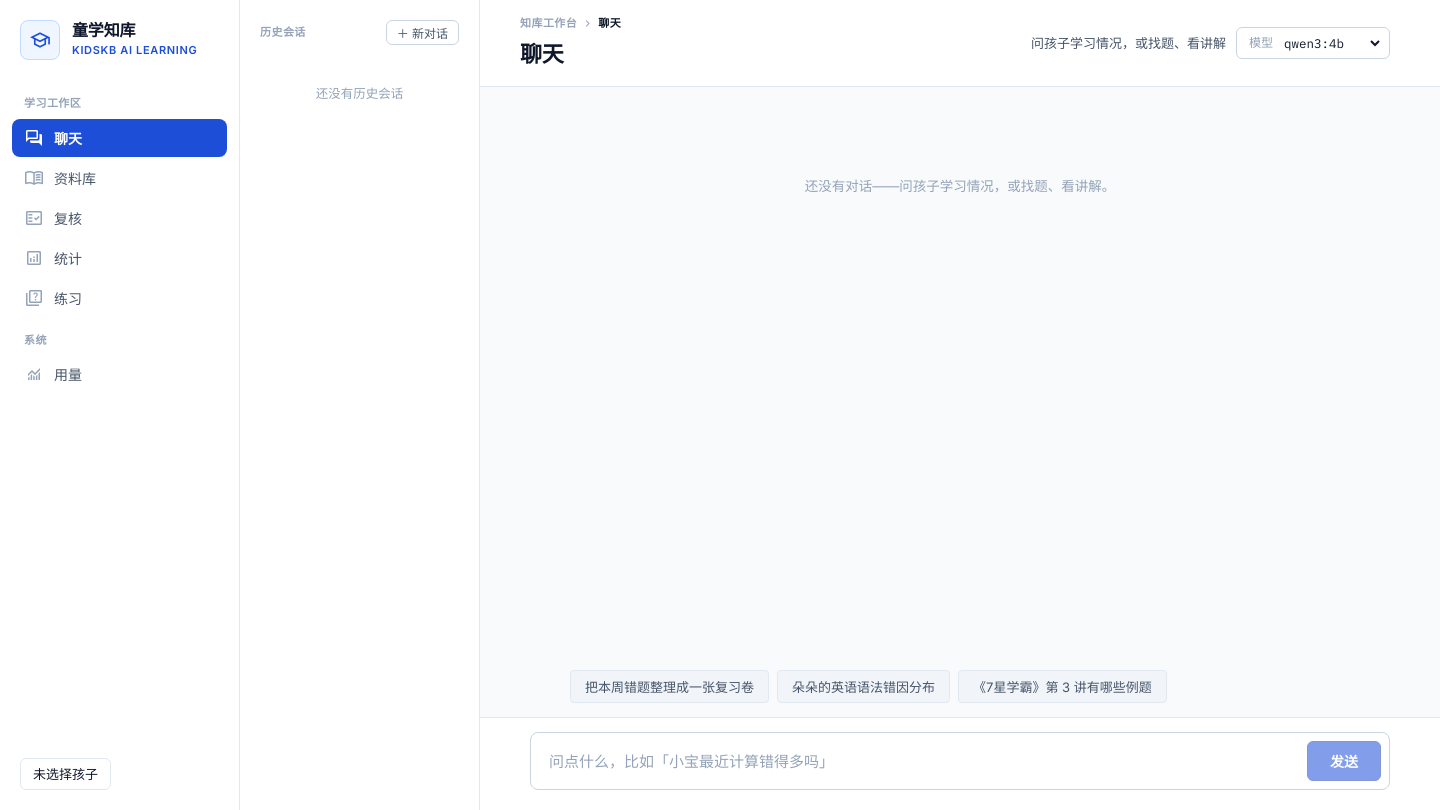
Scenario: App 集成（会话侧栏 + 模型下拉 + 聊天流） › 完整链路：发消息 → session 事件 → 流式回复 → 侧栏出现新会话
Check: the dropdown named "选择模型" shows "qwen3:4b", box top-left (1280, 34), bottom-right (1383, 52)
Type "小宝最近计算错得多吗" into the field named "输入问题" at (923, 761), box top-left (549, 741), bottom-right (1297, 781)
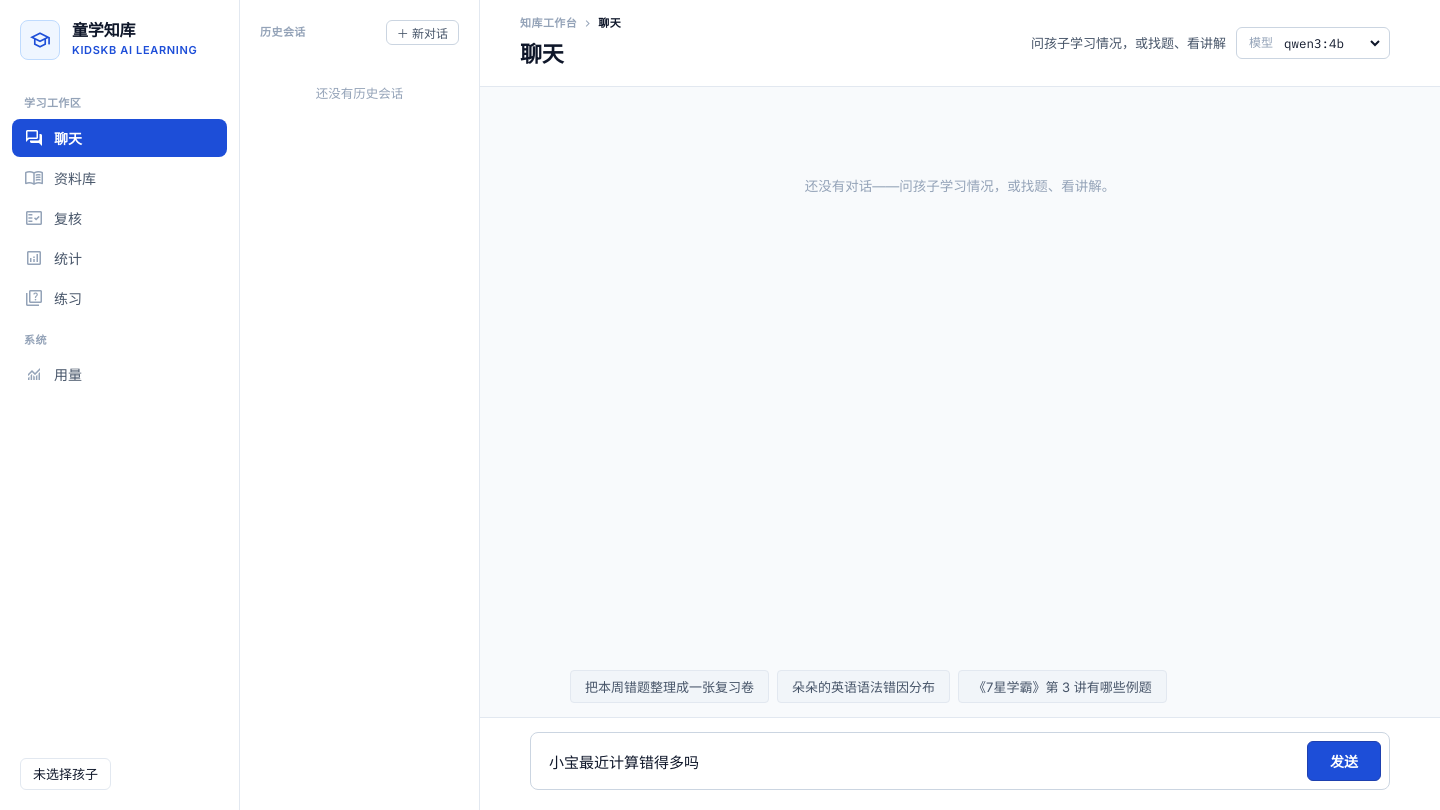
Click the button "发送" at (1344, 761), box top-left (1307, 741), bottom-right (1381, 781)
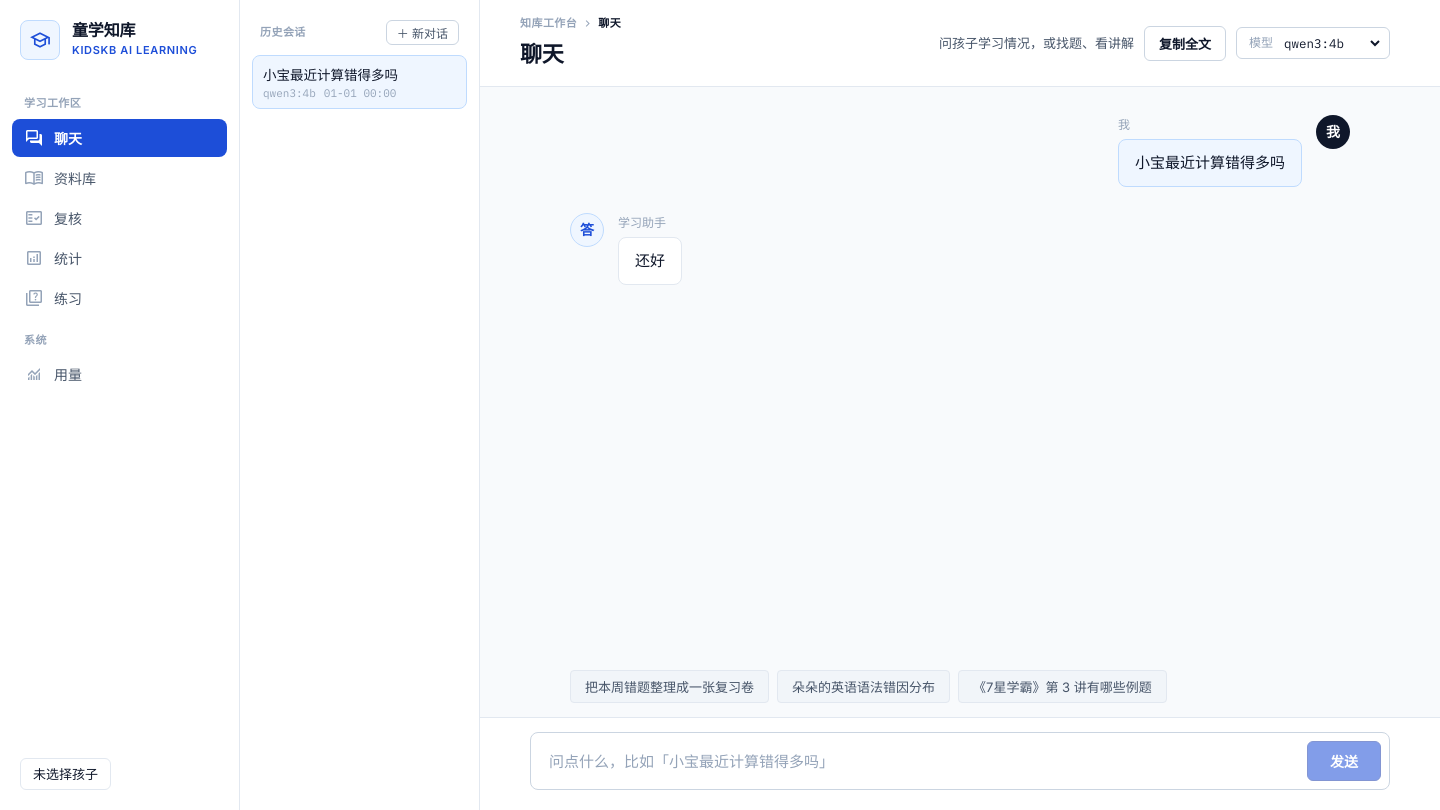
Check: the text "还好" is shown, box top-left (635, 248), bottom-right (665, 274)
Check: the text "小宝最近计算错得多吗" below "历史会话" is shown, box top-left (263, 67), bottom-right (398, 83)
